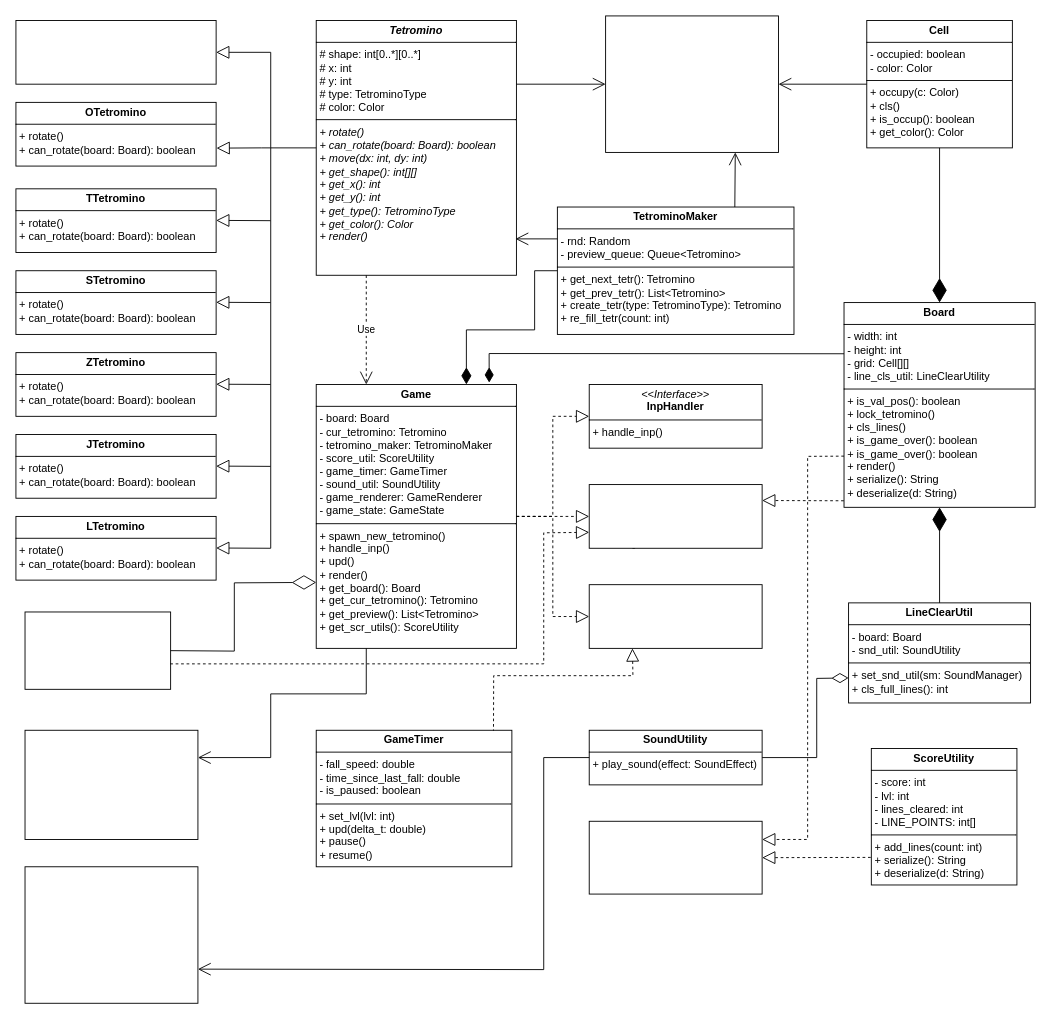
Image size: 1051x1019. Some labels were removed from this diagram. Each missing label, with the centre of its shape:
<<Enumerations>> GameState MAIN_MENU PLAYING PAUSED GAME_OVER SETTINGS: pixel 111 784
<<Enumerations>> SoundEffect MOVE ROTATE FALL LINE_CLEAR GAME_OVER MUSIC SELECT: pixel 111 934
<<Enumerations>> TetrominoType I O T S Z J L: pixel 692 83
<<Interface>> GameRenderer + render(): pixel 675 516
<<Interface>> Savable + serialize(): String + deserialize(data: String): pixel 675 857
<<Interface>> UpdTable + upd(delta_time: double): pixel 675 616
GameRenderer + game: Game + render(): pixel 97 650
ITetromino + rotate() + can_rotate(board: Board): boolean: pixel 115 52
